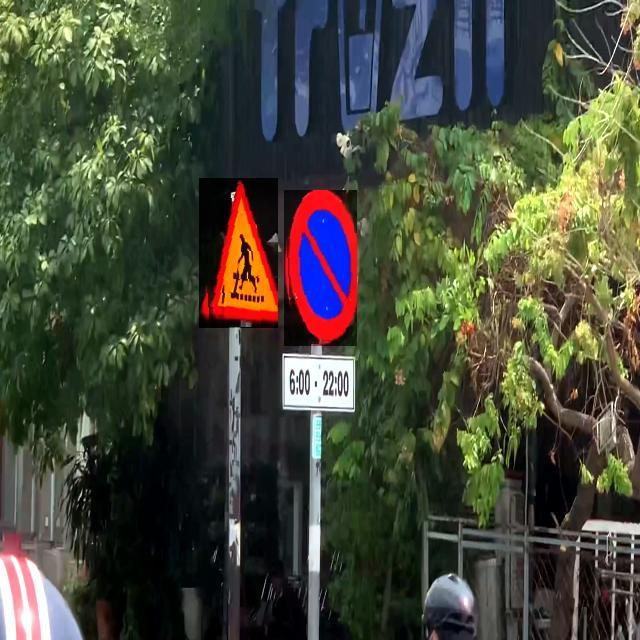P-131a: (284, 190, 357, 346)
W-224: (199, 178, 278, 328)
